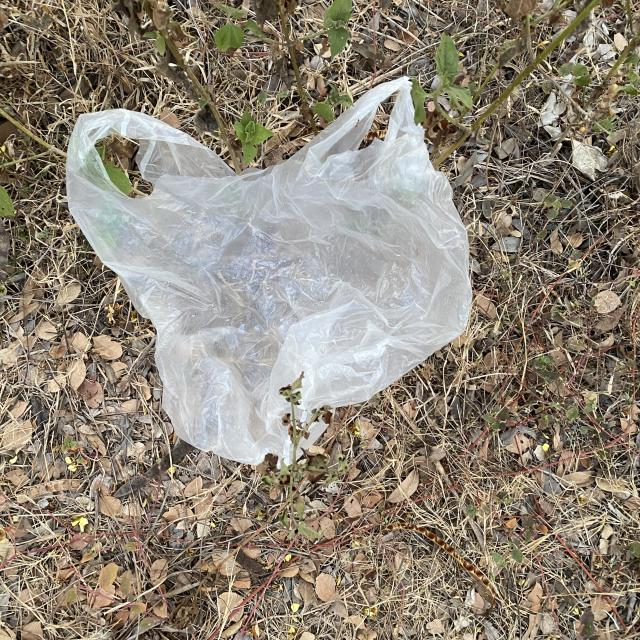Single-layer Plastic: (66, 78, 471, 464)
